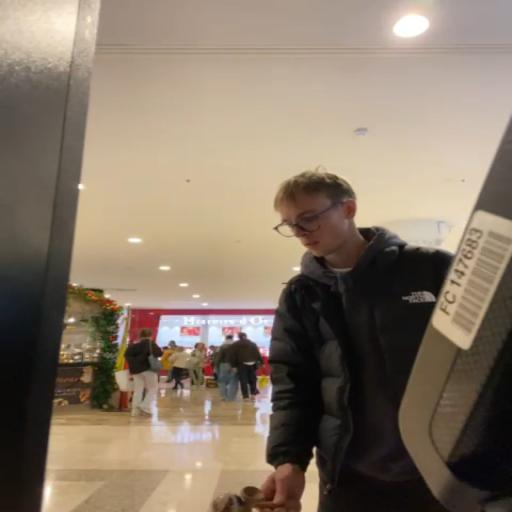kendama_ball: (211, 493, 244, 512)
